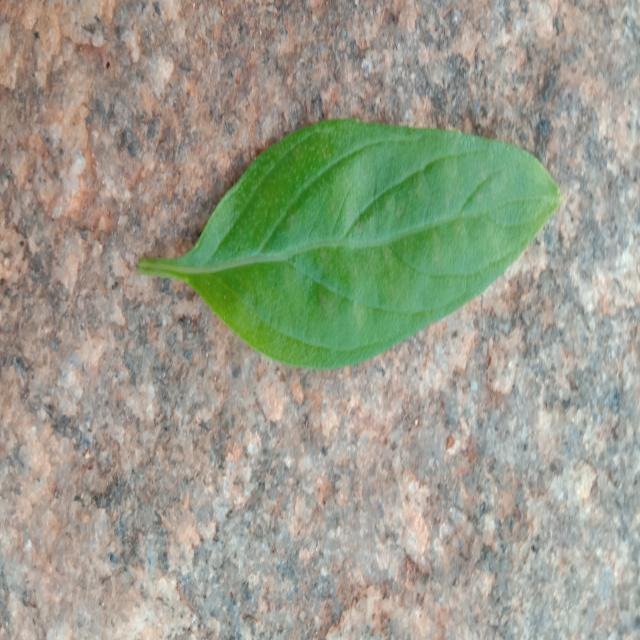kamakasturi: (138, 119, 561, 369)
